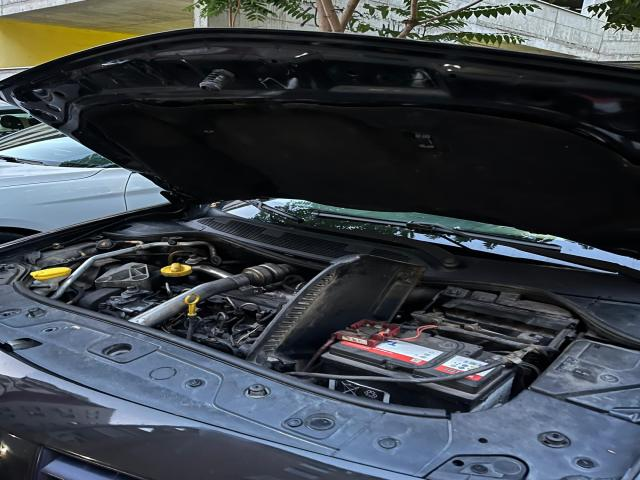accumulator: (320, 320, 515, 412)
antifreeze_tank: (35, 238, 118, 268)
fuse_box: (530, 339, 640, 423)
high_pressure_pump: (105, 296, 157, 315)
